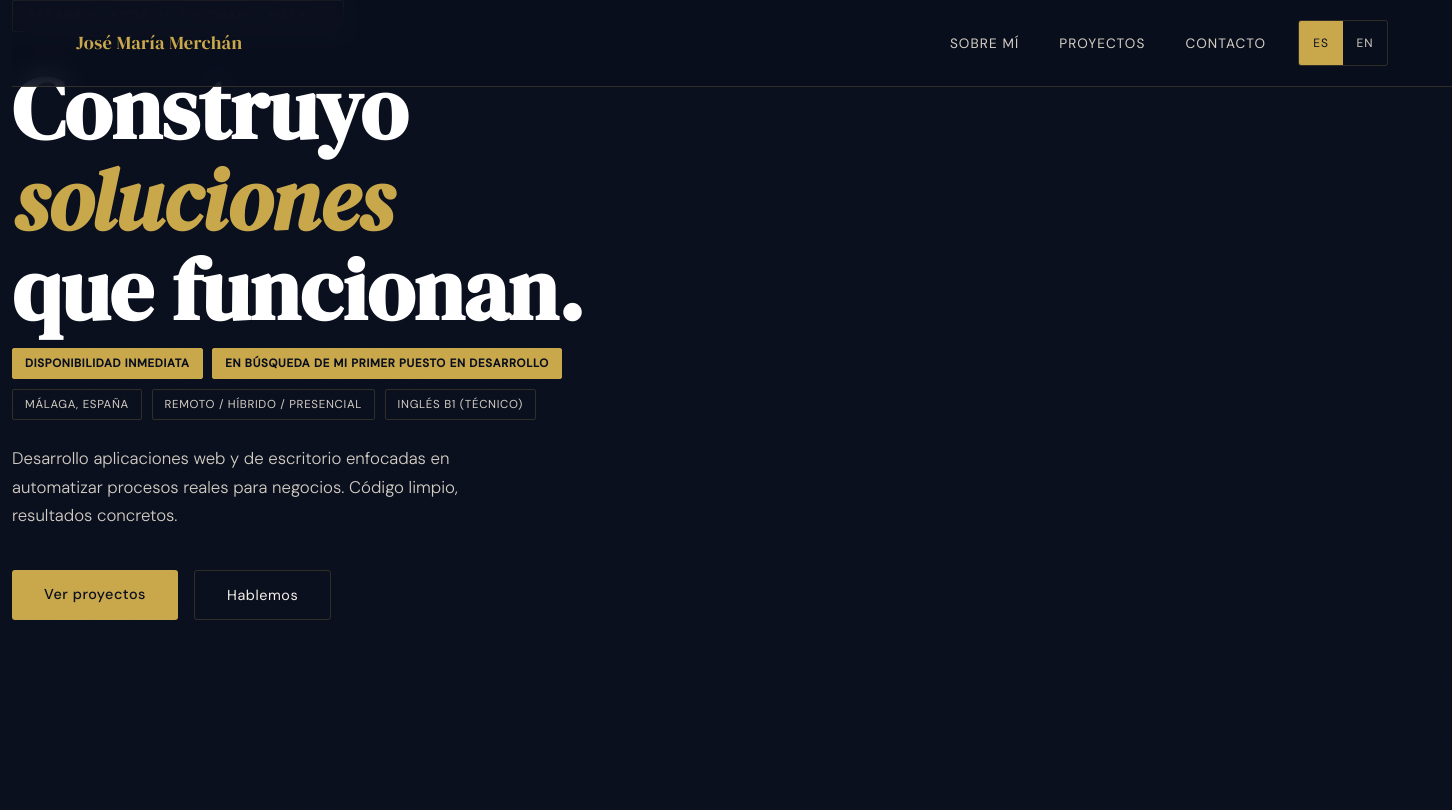
Language switch integration › re-renders both Nav and HeroContent in English after clicking the toggle
Check: the link "Sobre mí" is shown, box [950, 35, 1019, 52]
Check: the text "Málaga, España" is shown, box [12, 389, 142, 420]
Click the button "EN": (1365, 43) [1343, 21, 1387, 65]
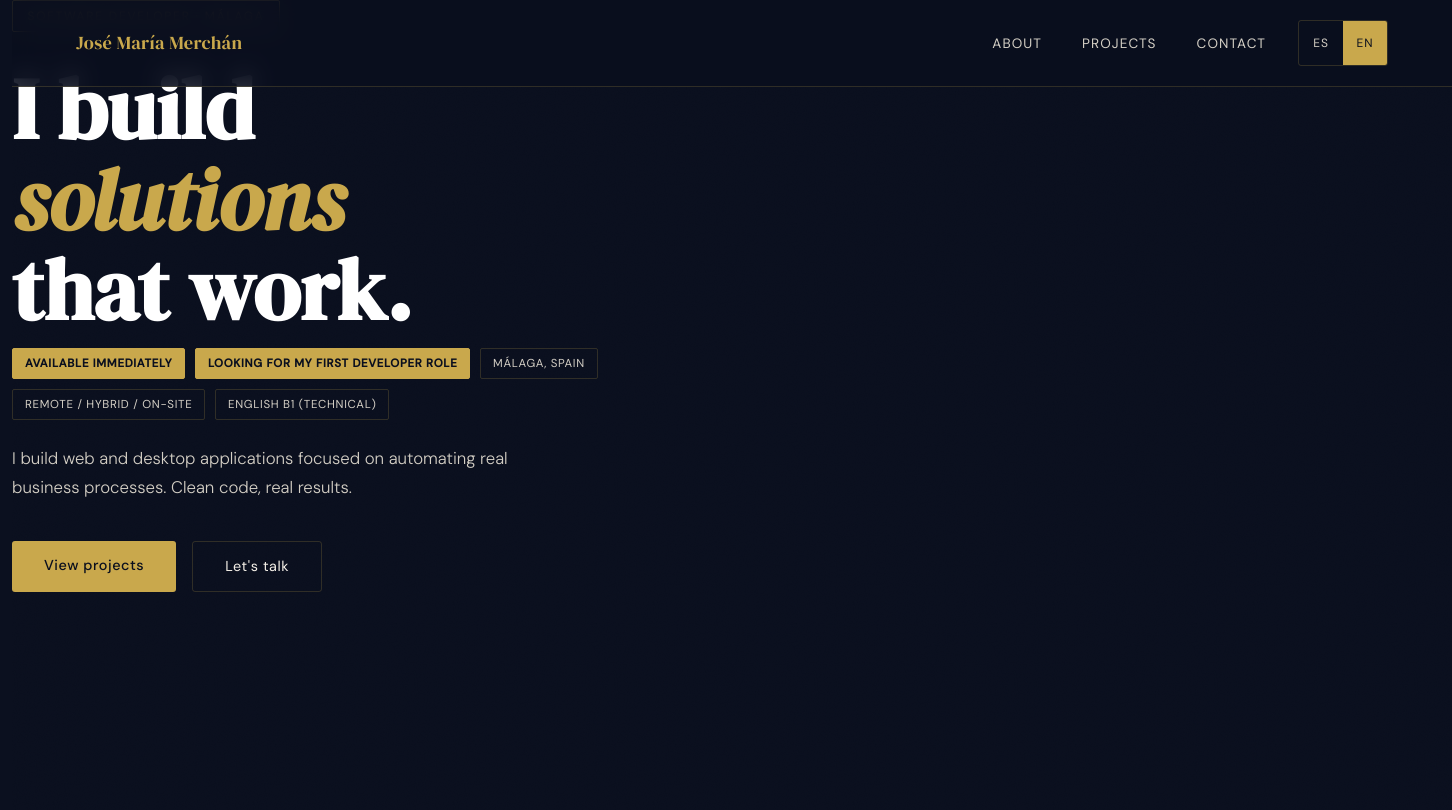
Check: the link "About" is shown, box [992, 35, 1042, 52]
Check: the link "Sobre mí" is gone
Check: the text "Málaga, Spain" is shown, box [480, 348, 598, 379]
